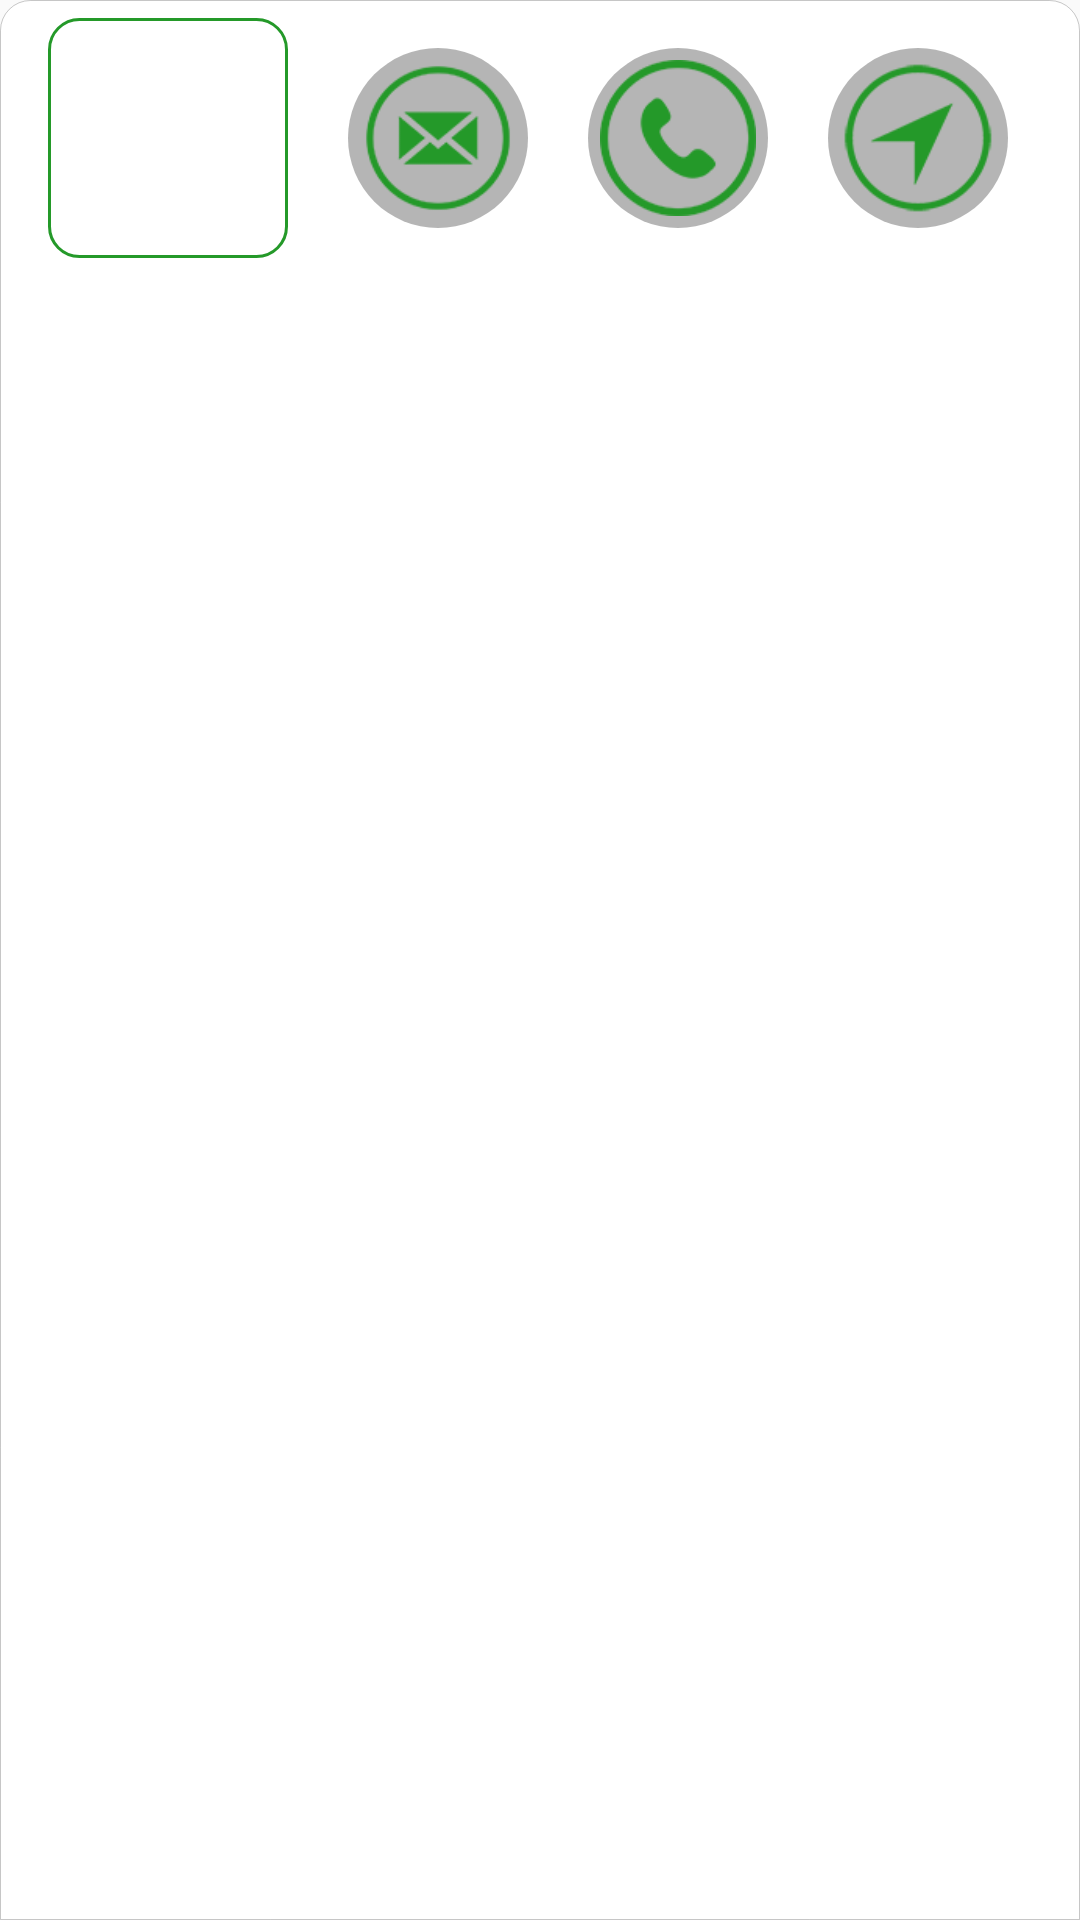

Where icons sit on this 1080x1920 app screen, as bbox=[x1, y1, x2, y2]:
call: bbox=[588, 48, 768, 228]
direction: bbox=[828, 48, 1008, 228]
send message: bbox=[348, 48, 528, 228]
